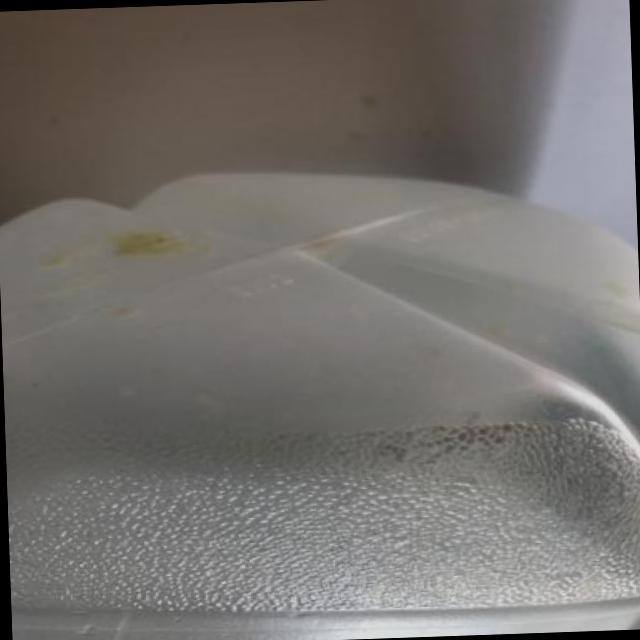plastic: (0, 174, 639, 639)
